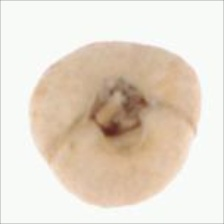L3: (90, 78, 148, 141)
L4: (29, 41, 202, 207)
